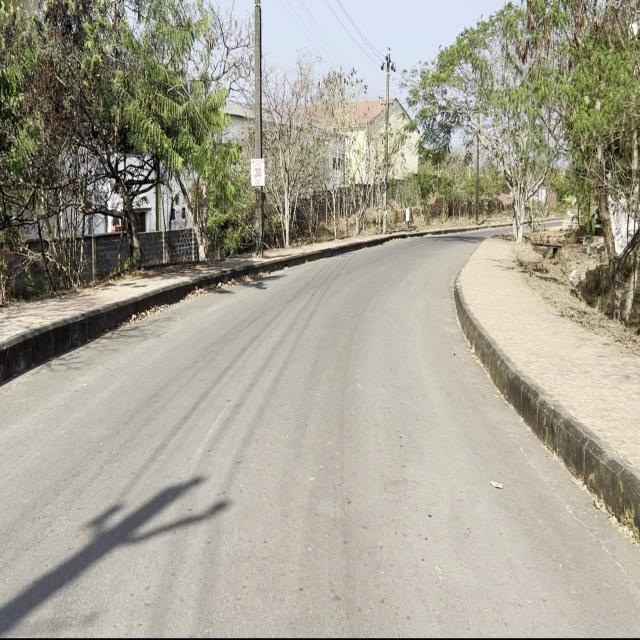Road: (2, 237, 638, 633)
